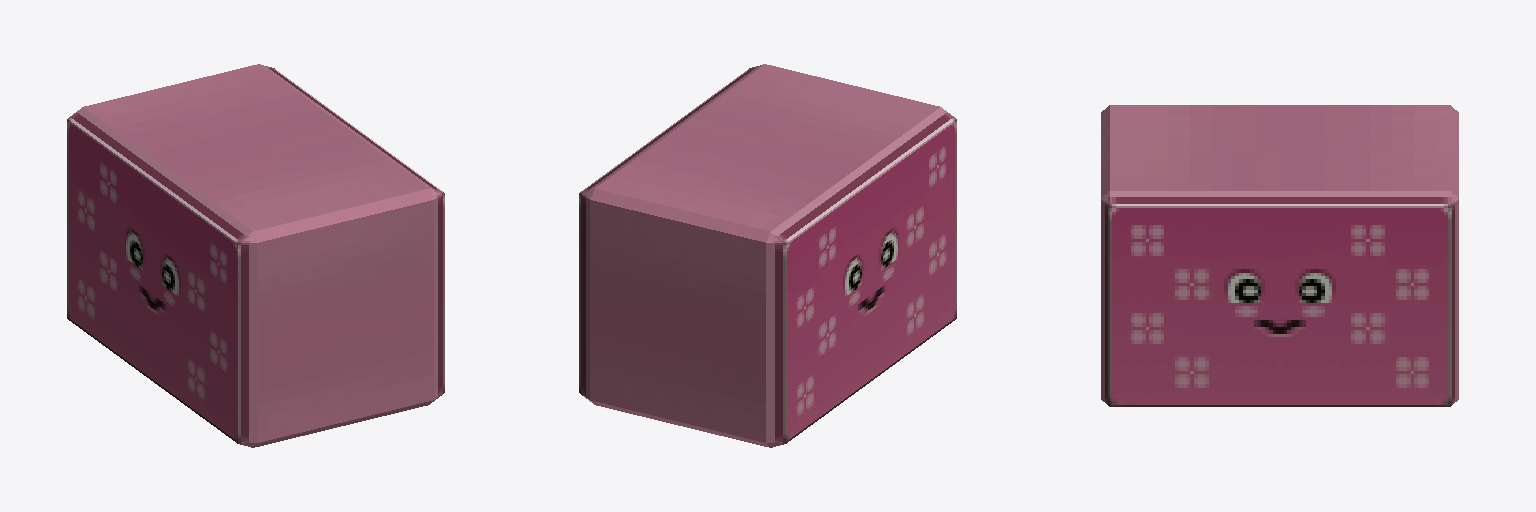
3 renders of one model, left to right at view 1: azimuth 30°, elevation 25°; view 2: azimuth 150°, elevation 25°; view 3: azimuth 270°, elevation 25°, orthographic.
Visible parts, largest first — view 1: polygon1, polygon0; view 2: polygon1, polygon0; view 3: polygon0, polygon1.
Part boxes in pixels (left/top/right/bottom): polygon1: left=84, top=64, right=433, bottom=447; polygon0: left=67, top=64, right=444, bottom=447; polygon1: left=590, top=64, right=939, bottom=447; polygon0: left=579, top=64, right=956, bottom=447; polygon0: left=1101, top=191, right=1458, bottom=406; polygon1: left=1101, top=105, right=1458, bottom=197.
Bounding box in the file's own units: 7.34 × 7.34 × 11.01.
Materials: 2 (2 with a texture image).